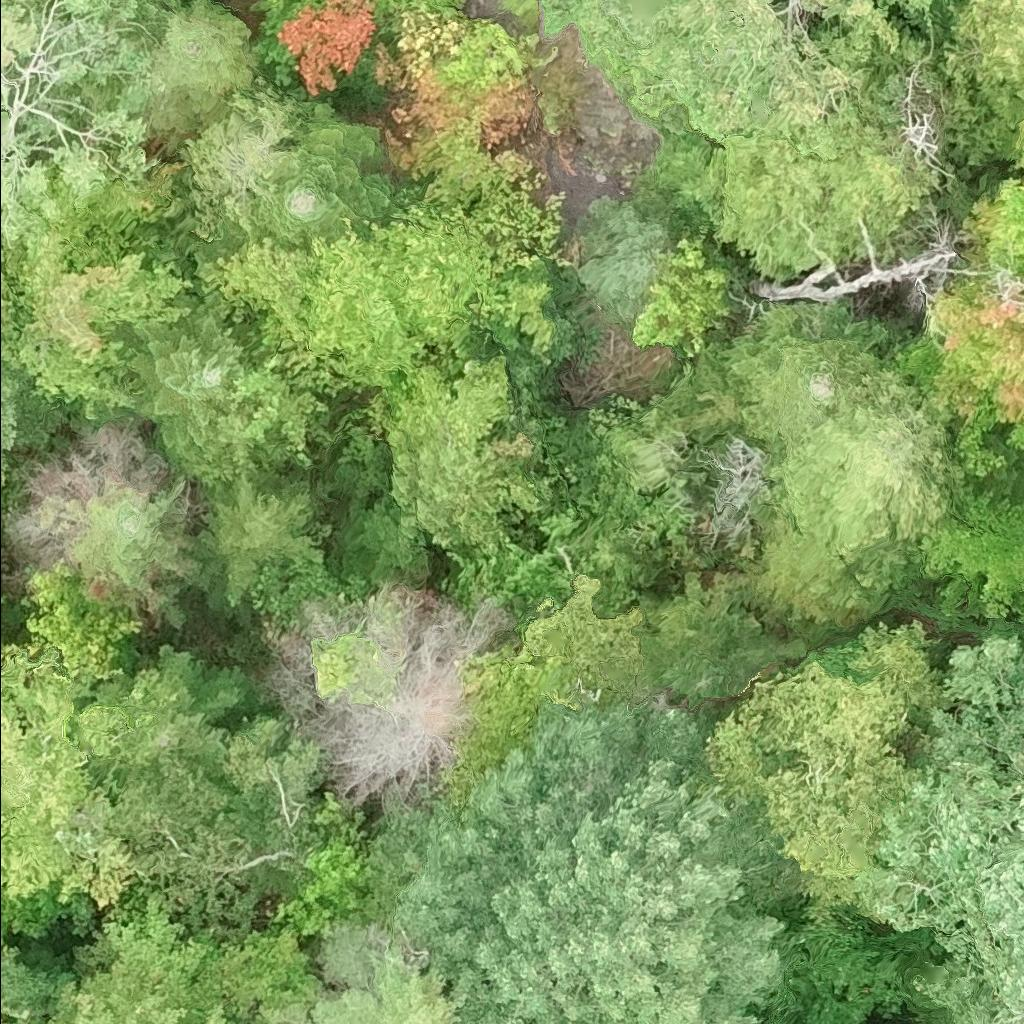crown: (383, 695, 795, 1023), (706, 617, 945, 901), (851, 630, 1023, 1023), (534, 0, 934, 162), (257, 585, 513, 808), (102, 712, 334, 942), (0, 621, 175, 896), (766, 367, 970, 590), (0, 0, 161, 246), (0, 221, 197, 417), (763, 197, 1023, 333), (303, 200, 488, 386), (891, 278, 1023, 496), (720, 297, 892, 462), (716, 130, 899, 270), (181, 467, 332, 626), (115, 290, 249, 465), (248, 100, 403, 250), (263, 917, 468, 1023), (227, 325, 363, 467), (270, 790, 391, 935), (71, 475, 200, 608), (204, 232, 320, 374), (574, 191, 692, 327), (24, 554, 144, 678), (42, 951, 246, 1023), (919, 484, 1023, 622), (630, 221, 734, 358), (147, 0, 253, 133), (378, 354, 513, 451), (685, 426, 783, 558), (939, 0, 1023, 129), (893, 52, 960, 180), (477, 261, 557, 352), (0, 359, 69, 458), (439, 17, 523, 93), (0, 943, 68, 1023), (988, 175, 1023, 270), (1013, 79, 1023, 166), (0, 464, 9, 509), (380, 0, 408, 7), (0, 592, 6, 603), (1019, 270, 1023, 279)
